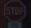Stop sign: (0, 0, 30, 27)
